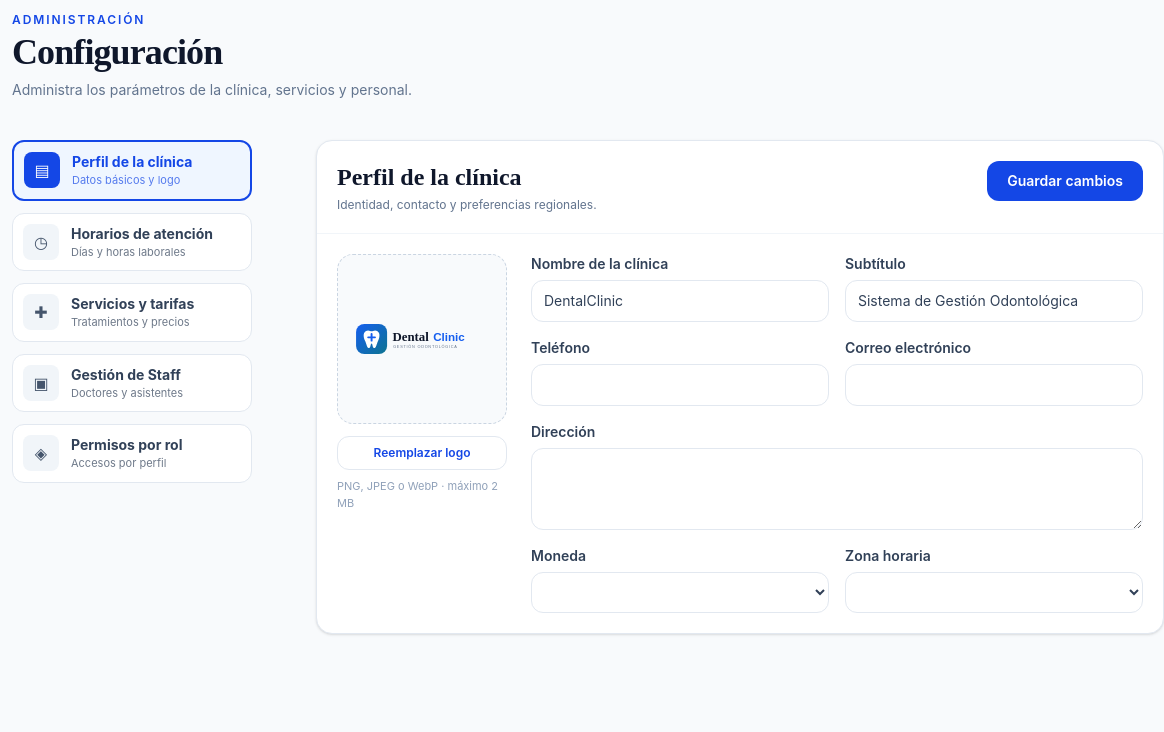
Test: SettingsPage staff management › opens staff in Activos and shows its specific empty state
Click the button "▣ Gestión de Staff Doctores y asistentes" at {"x": 132, "y": 383}, box 12,354 -> 252,412
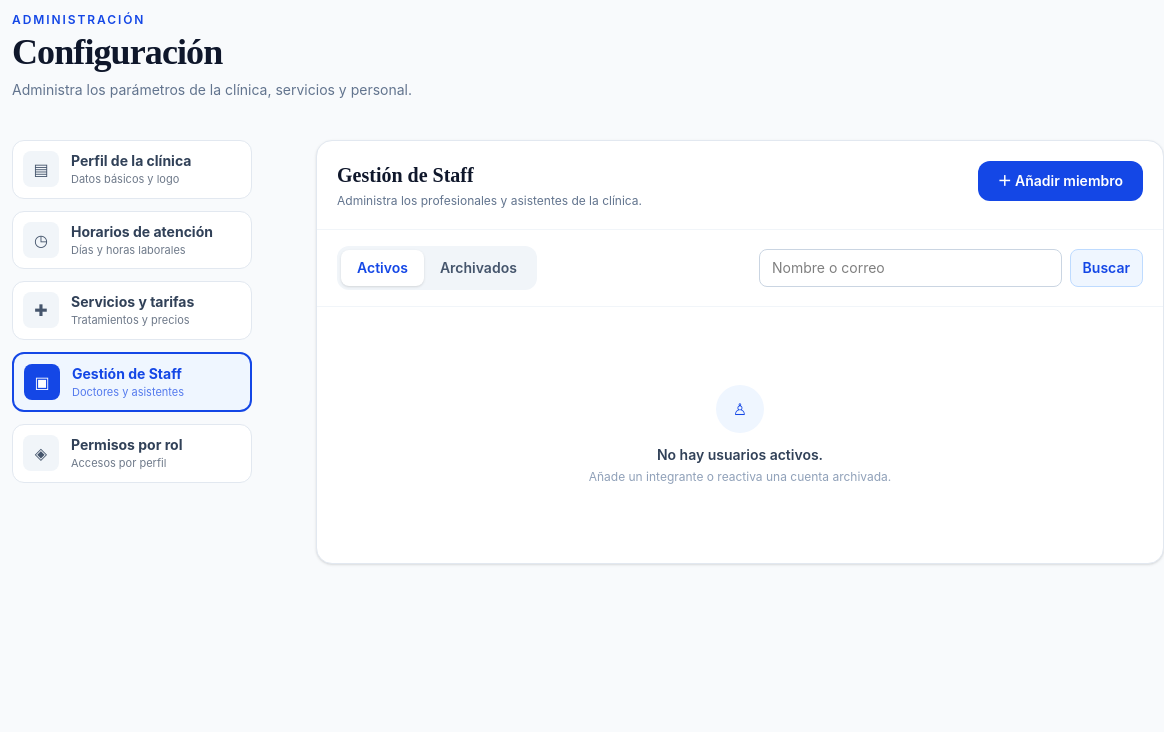
Now the text "No hay usuarios activos." is shown, box 657,446 -> 823,463
Now the button "＋ Añadir miembro" is shown, box 978,161 -> 1143,201
